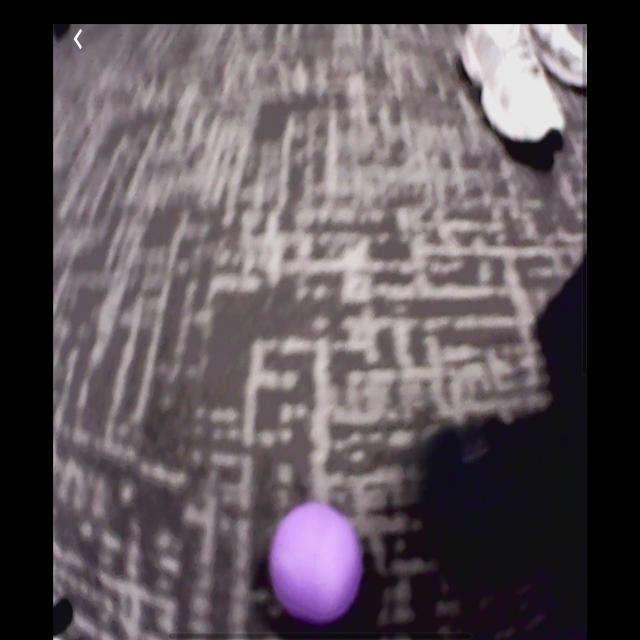ball: (268, 501, 365, 626)
